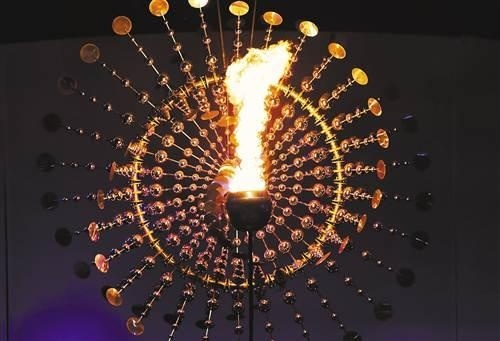fire: (218, 42, 295, 196)
